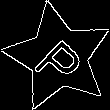P_NE: (27, 26, 90, 88)
